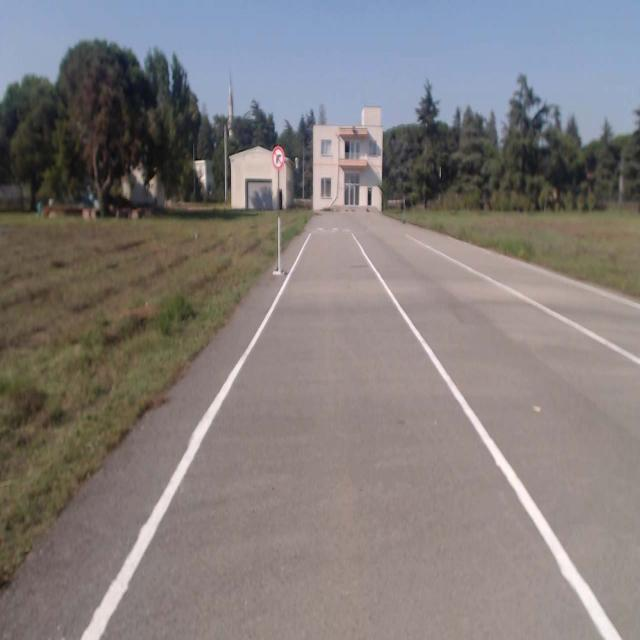sagadonulmez: (272, 146, 285, 169)
